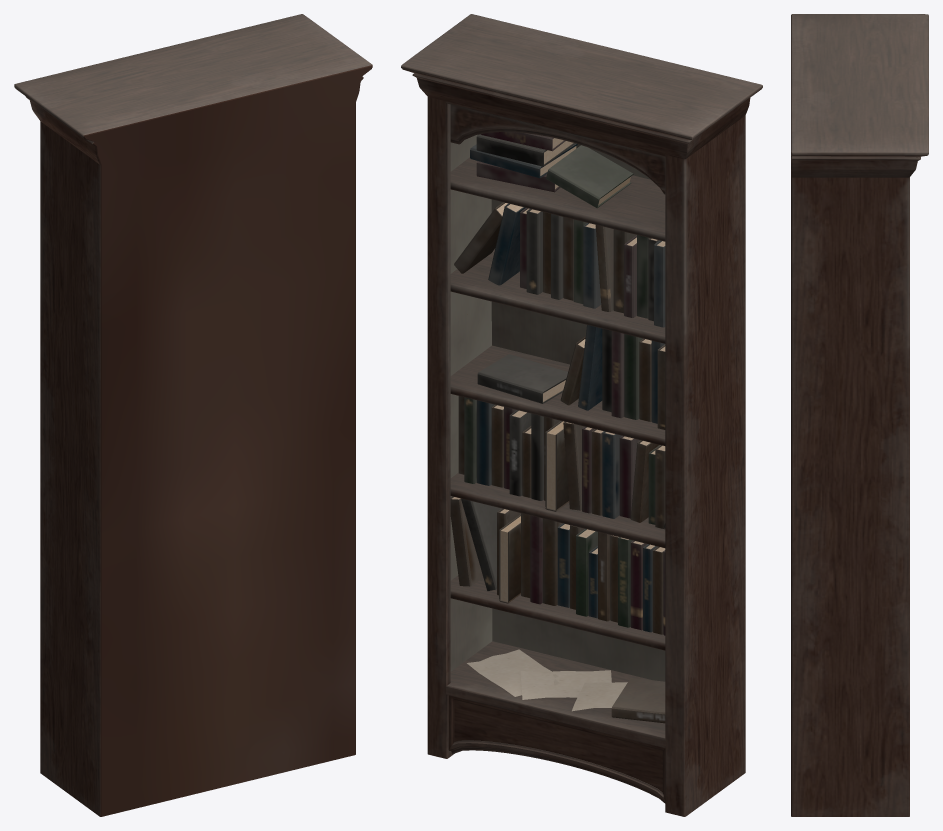
File: cgtrader_optimized_Old_Dusty_Bookshelf.fbx
The picture shows the model from 3 angles, left to right: view 1: azimuth 30°, elevation 25°; view 2: azimuth 150°, elevation 25°; view 3: azimuth 270°, elevation 25°; orthographic projection. The views are drawn at different scales.
Parts seen in each view (by area): view 1: Old_Dusty_Bookshelf; view 2: Old_Dusty_Bookshelf; view 3: Old_Dusty_Bookshelf.
Part boxes in pixels (x1=…): Old_Dusty_Bookshelf: x1=14, y1=14, x2=372, y2=816; Old_Dusty_Bookshelf: x1=401, y1=14, x2=762, y2=816; Old_Dusty_Bookshelf: x1=791, y1=14, x2=928, y2=816.
Size of the model in its own units: 0.9772 by 2.21 by 0.4106.
